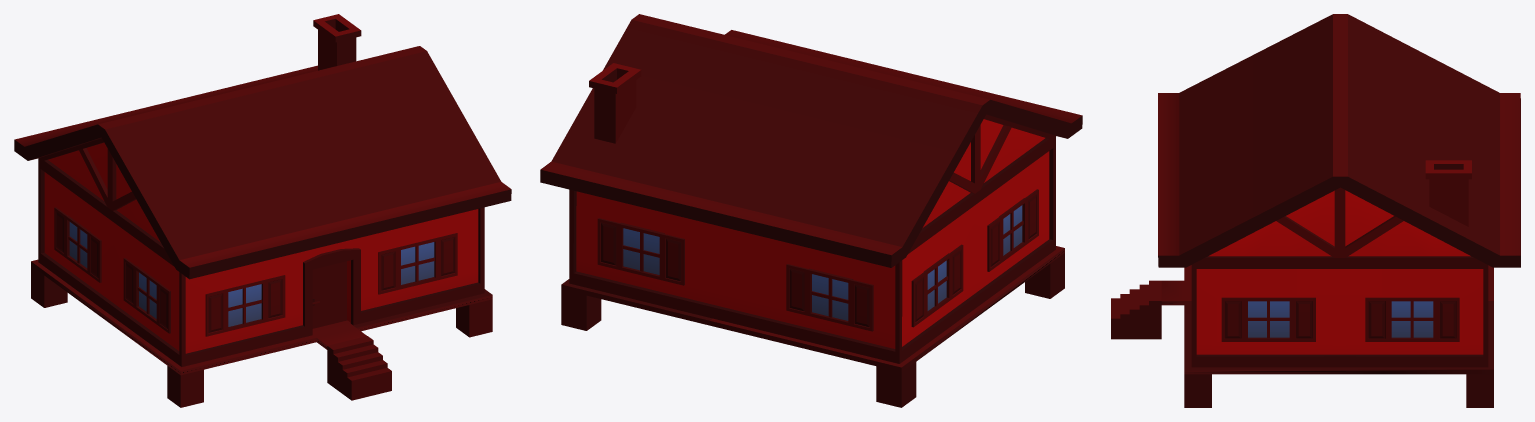
File: buildings-residential-elevatedhouse_v1.fbx
3 views of the same model, side by side, from view 1: azimuth 30°, elevation 25°; view 2: azimuth 150°, elevation 25°; view 3: azimuth 270°, elevation 25° (orthographic). The views are drawn at different scales.
Parts seen in each view (by area): view 1: ElevatedHouse_color, ElevatedHouse_base4, ElevatedHouse_windowRefl; view 2: ElevatedHouse_color, ElevatedHouse_base4, ElevatedHouse_windowRefl; view 3: ElevatedHouse_color, ElevatedHouse_base4, ElevatedHouse_windowRefl.
Part boxes in pixels (left/top/right/bottom): ElevatedHouse_color: left=14, top=46, right=511, bottom=366; ElevatedHouse_base4: left=31, top=14, right=492, bottom=407; ElevatedHouse_windowRefl: left=69, top=222, right=434, bottom=326; ElevatedHouse_color: left=540, top=14, right=1082, bottom=363; ElevatedHouse_base4: left=561, top=63, right=1064, bottom=407; ElevatedHouse_windowRefl: left=623, top=205, right=1022, bottom=320; ElevatedHouse_color: left=1158, top=14, right=1520, bottom=367; ElevatedHouse_base4: left=1111, top=160, right=1493, bottom=407; ElevatedHouse_windowRefl: left=1248, top=301, right=1433, bottom=337.
Size of the model in its own units: 12.81 by 8.61 by 13.64.
